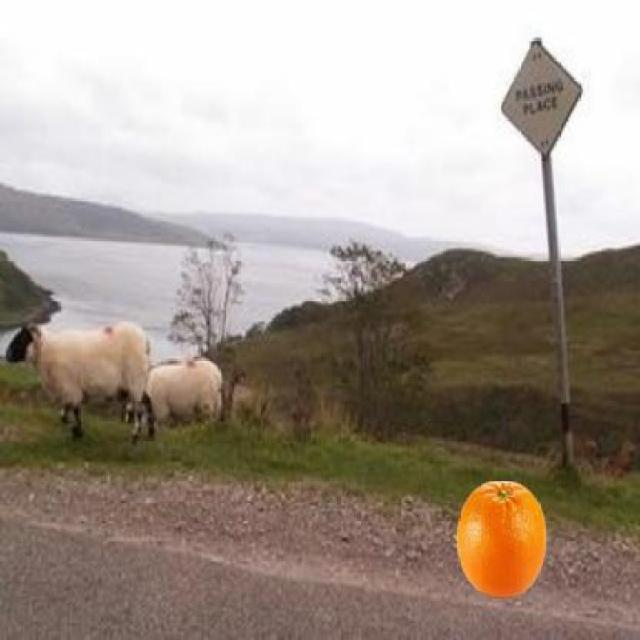Orange: (454, 477, 548, 598)
